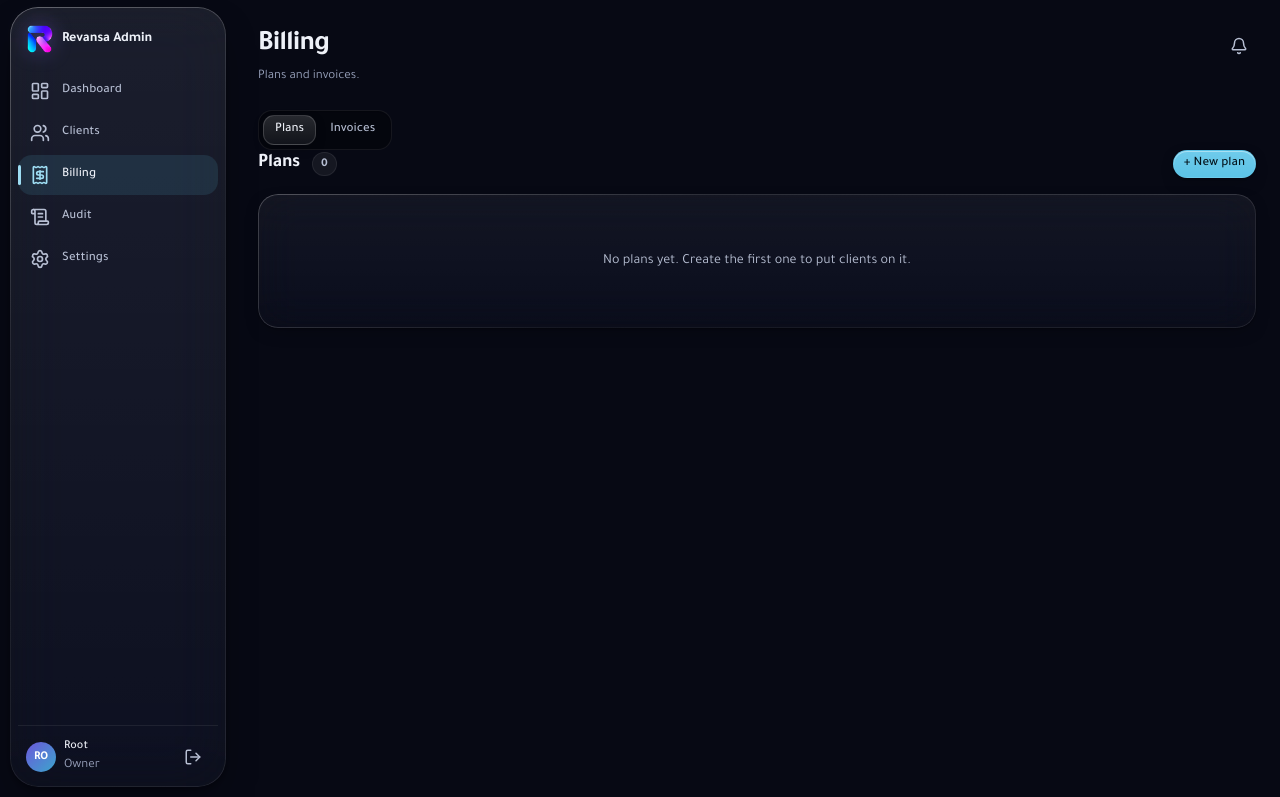
Test: Billing: invoices › shows the plan terms an invoice was built from
Click the radio button labelled "Invoices": (353,130) [318, 115, 387, 145]
(page scrolled)
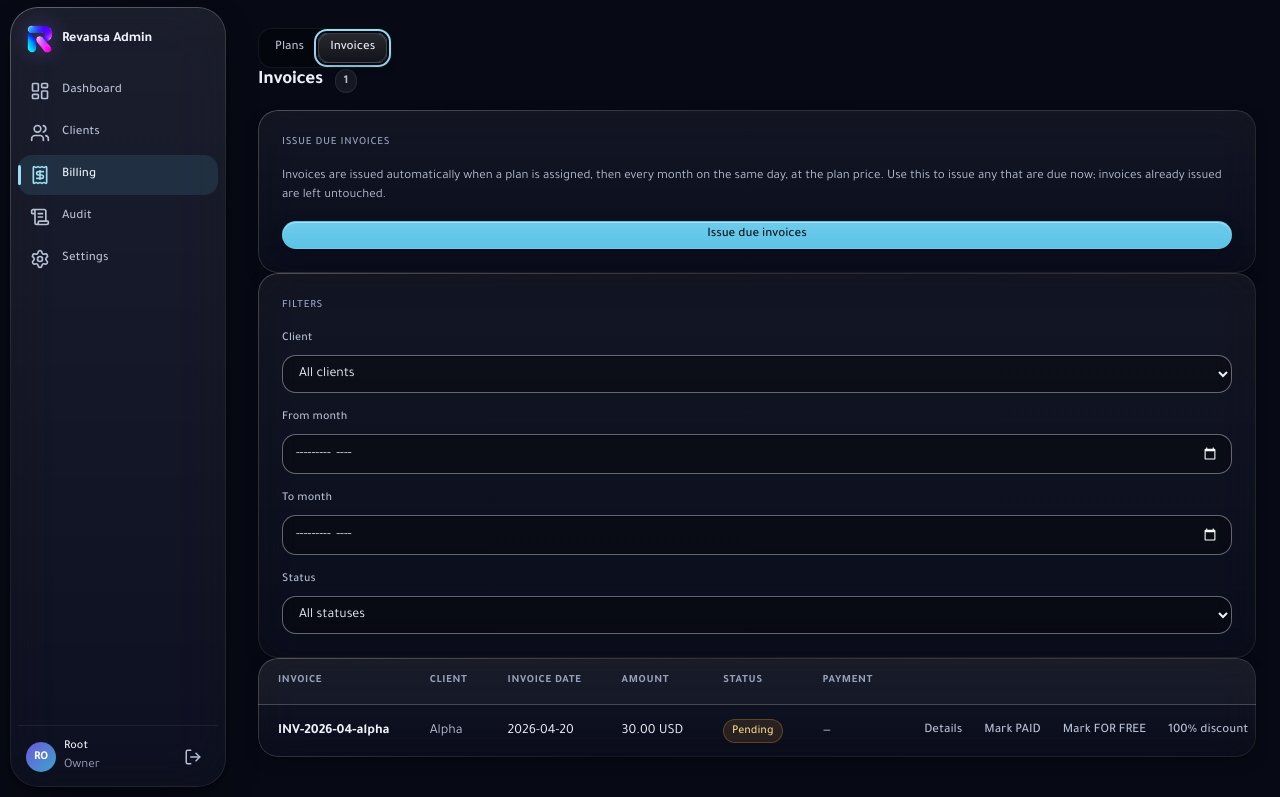
Click the button with aria-label "Details of INV-2026-04-alpha": (943,731) [913, 717, 973, 745]
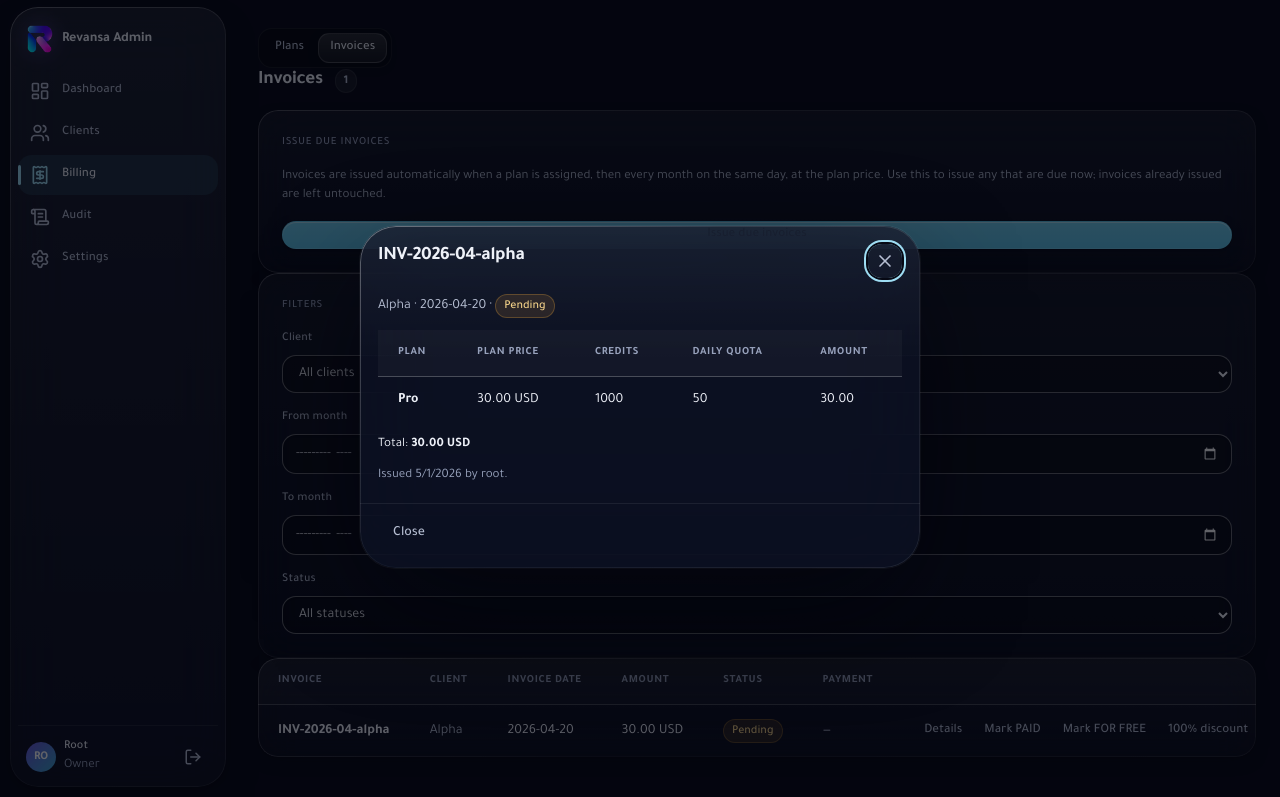
Now the column heading "Pro" is shown, box [378, 376, 457, 423]
Now the column heading "Plan price" is shown, box [457, 330, 575, 376]
Now the text "1000" is shown, box [575, 376, 673, 423]
